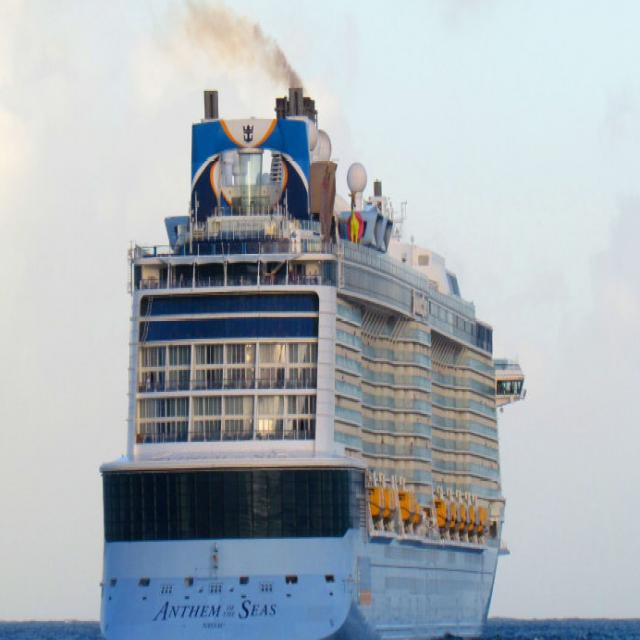cruises: (96, 83, 532, 640)
